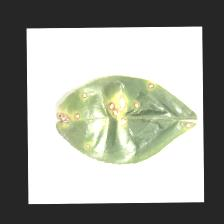canker: (50, 92, 162, 138)
